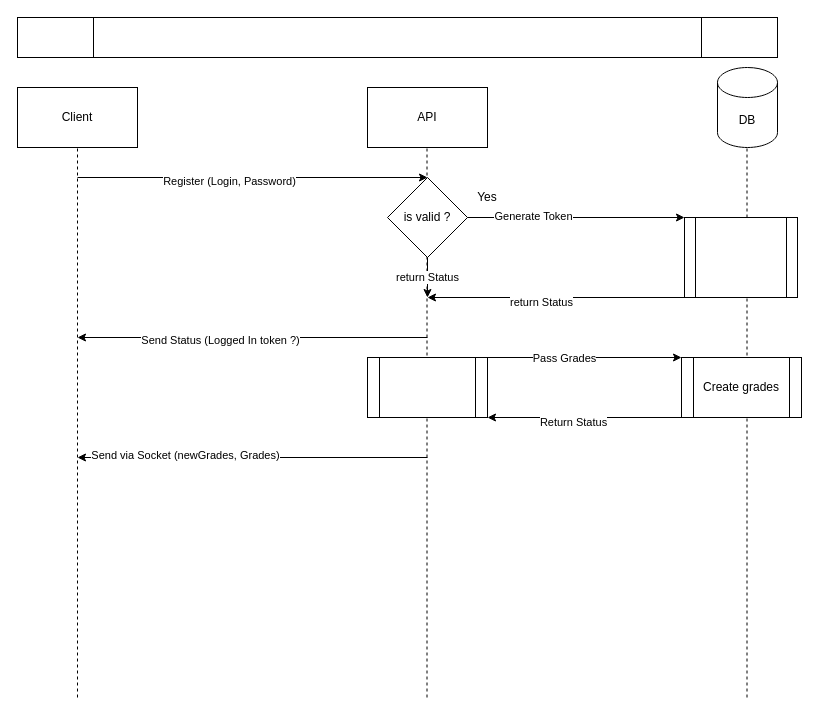
This 819x716 diagram has some shape labels left out. Here are the shapes that lost their labels. From the top down, the box of each, then its label:
(16, 16, 778, 58): Register
(684, 216, 798, 298): Create and Log the user
(366, 356, 488, 418): WebScraping
